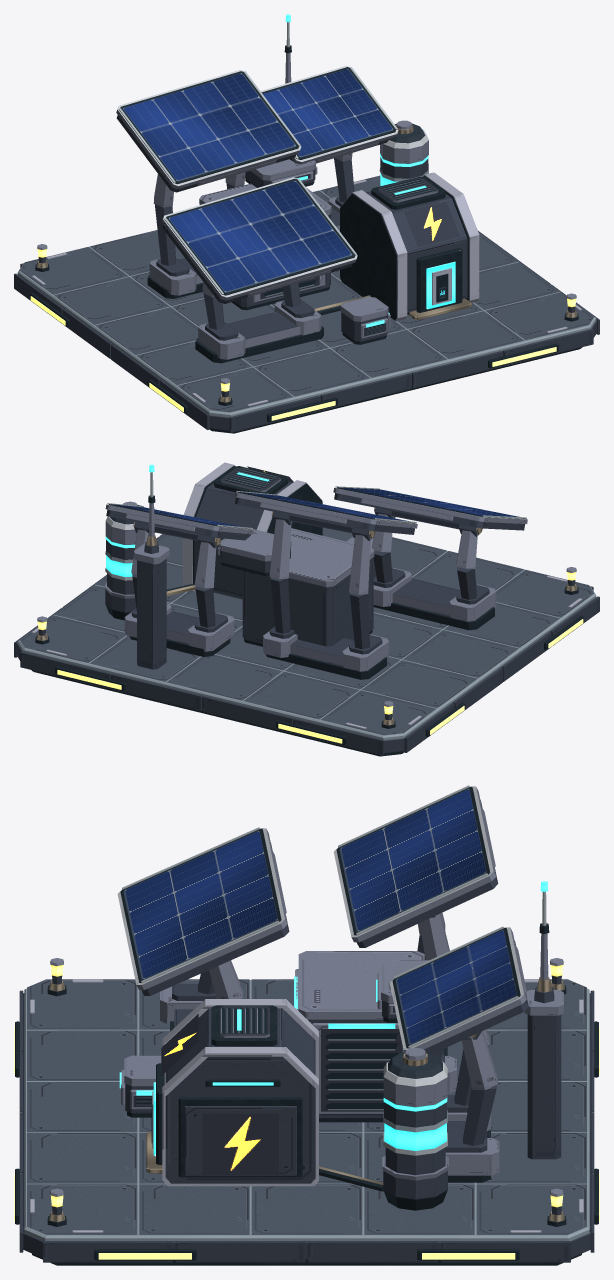
File: PS02_PlantaSolarModular_Distancia.fbx
3 views of the same model, one above another, from view 1: azimuth 30°, elevation 25°; view 2: azimuth 150°, elevation 25°; view 3: azimuth 270°, elevation 25° (orthographic). The views are drawn at different scales.
Parts seen in each view (by area): view 1: PlantaSolarDistante_2; view 2: PlantaSolarDistante_2; view 3: PlantaSolarDistante_2.
Part boxes in pixels (x1,y1,x2,y2): PlantaSolarDistante_2: (14, 14, 599, 433); PlantaSolarDistante_2: (14, 462, 599, 756); PlantaSolarDistante_2: (14, 785, 599, 1265).
Bounding box in the file's own units: 6.56 × 3.49 × 6.1.
